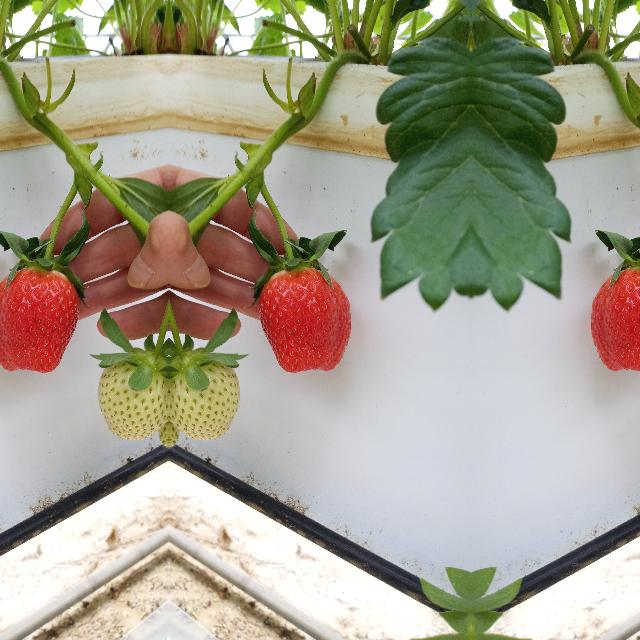Health_100: (257, 264, 351, 374), (0, 264, 79, 373), (590, 264, 640, 373)
Health_25: (171, 335, 241, 443), (95, 335, 165, 443)
